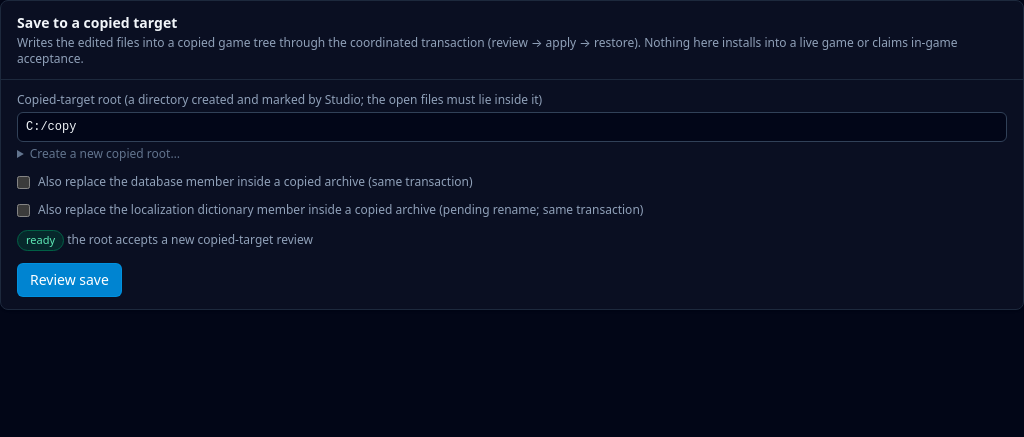
Test: CopiedTargetPanel status presentation › shows its own prepared review as prepared, not as a blocked root needing recovery
Check: the text "ready" is shown, box [17,230,64,251]
Click the button "Review save" at (69, 280), box [17,263,122,297]
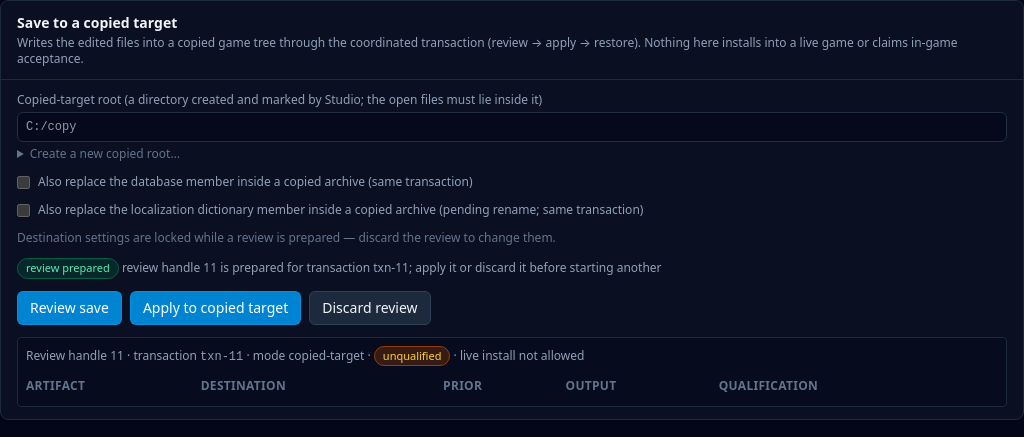
Check: the element named "prepared review" is shown, box [17,337,1007,407]
Check: the text "review prepared" is shown, box [17,258,119,279]
Check: the button "Apply to copied target" is enabled, box [130,291,301,325]
